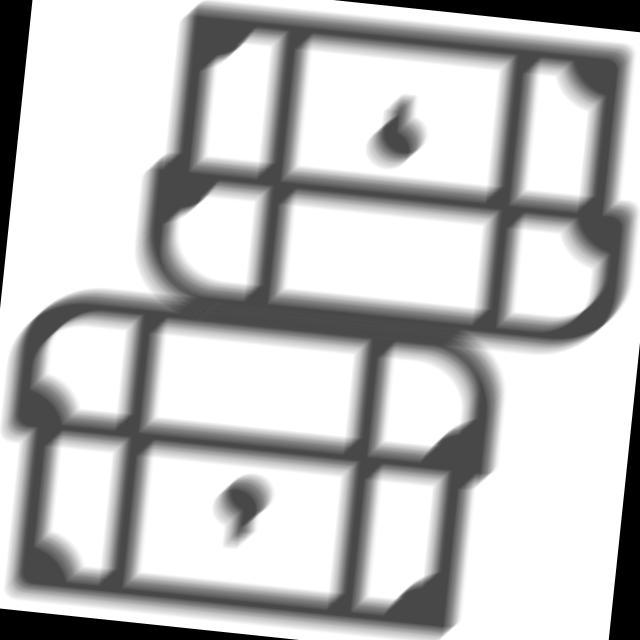treasure_box: (1, 267, 526, 640), (121, 1, 640, 365)
